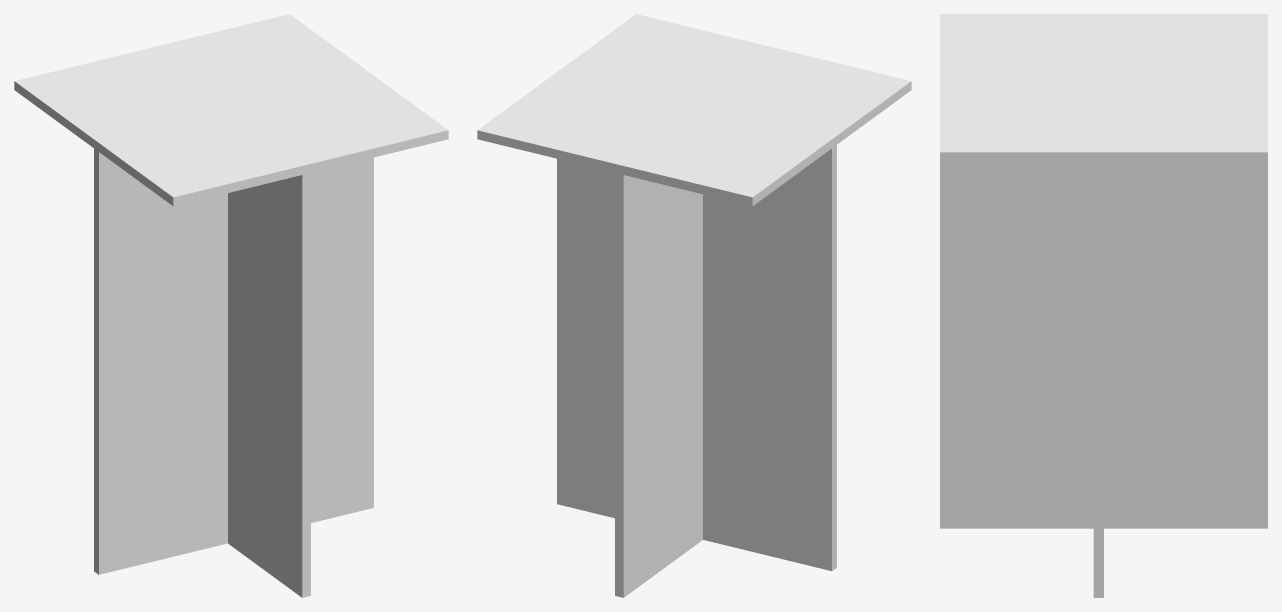
The model's file is 发白光.obj.
3 renders of one model, left to right at view 1: azimuth 30°, elevation 25°; view 2: azimuth 150°, elevation 25°; view 3: azimuth 270°, elevation 25°, orthographic. The views are drawn at different scales.
Parts seen in each view (by area): view 1: 发白光; view 2: 发白光; view 3: 发白光.
Boxes of the visible parts, bbox=[...] form: 发白光: bbox=[14, 14, 448, 597]; 发白光: bbox=[477, 14, 911, 597]; 发白光: bbox=[940, 14, 1267, 597].
Size of the model in its own units: 32 by 48 by 32.
1 material, 1 textured.
